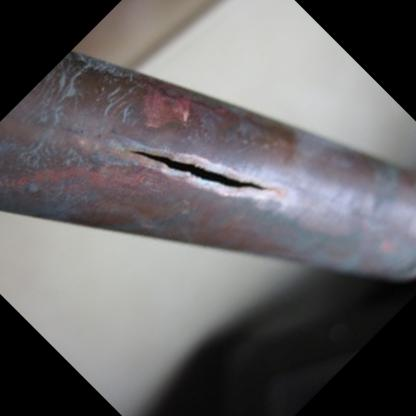burst: (134, 150, 278, 207)
